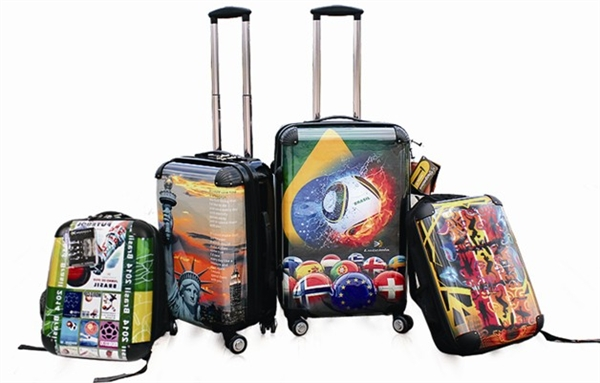luggage: (276, 6, 414, 336), (154, 8, 282, 353), (413, 192, 545, 357), (40, 210, 165, 365)
